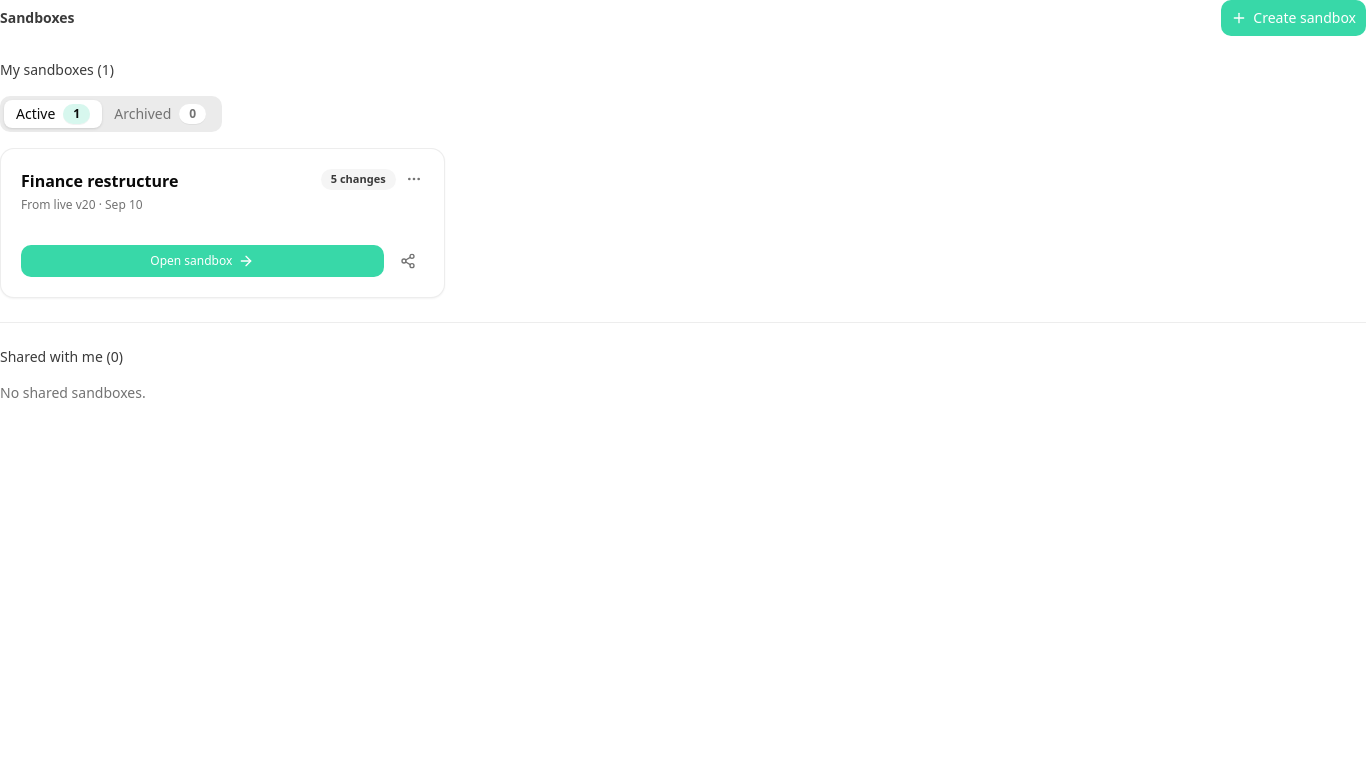
Test case: sandbox sharing › falls back to email when an existing share has no full name
Click the button named "Share Finance restructure".
click(408, 261)  # box [392, 245, 424, 277]
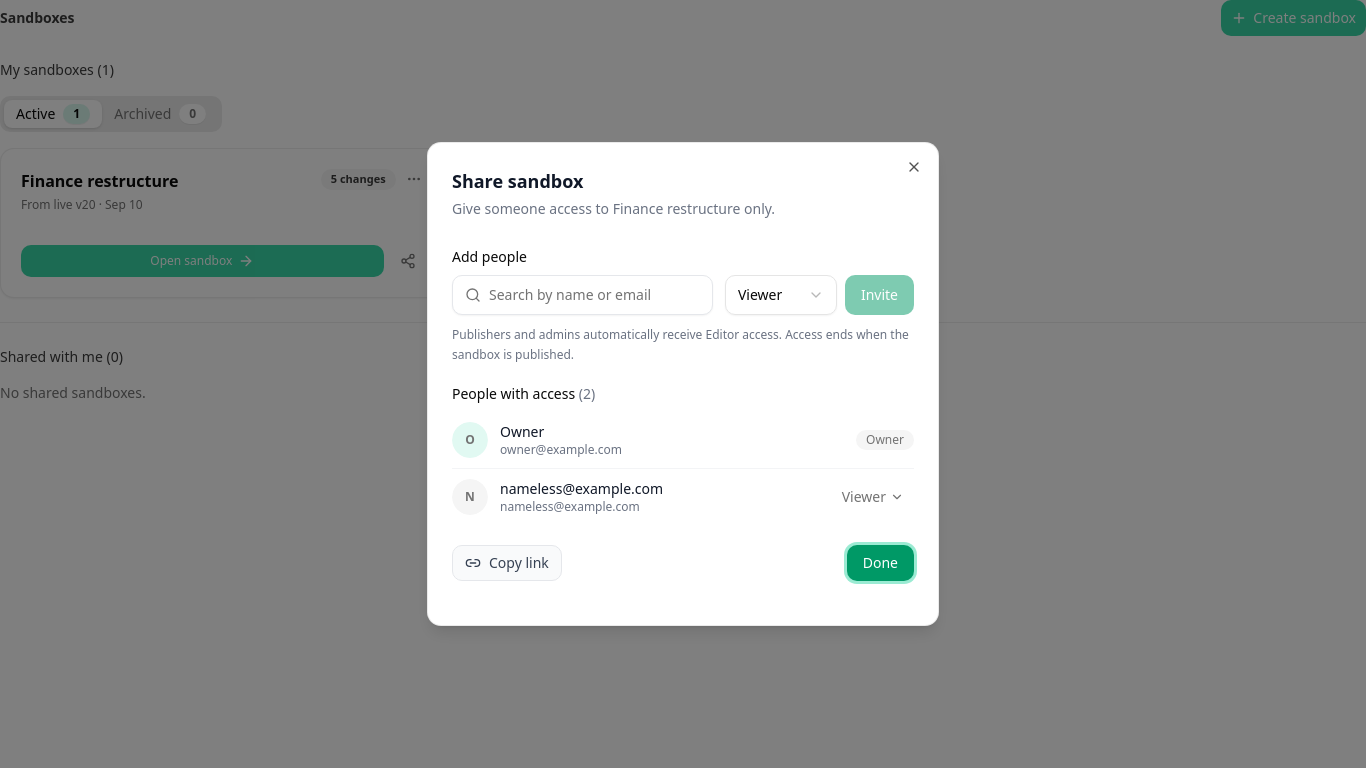
Expected: the text "nameless@example.com" is shown 2 times, [500, 479, 663, 498]; [500, 498, 640, 515]
Expected: the button with aria-label "Access for nameless@example.com" is shown, [832, 481, 914, 513]
